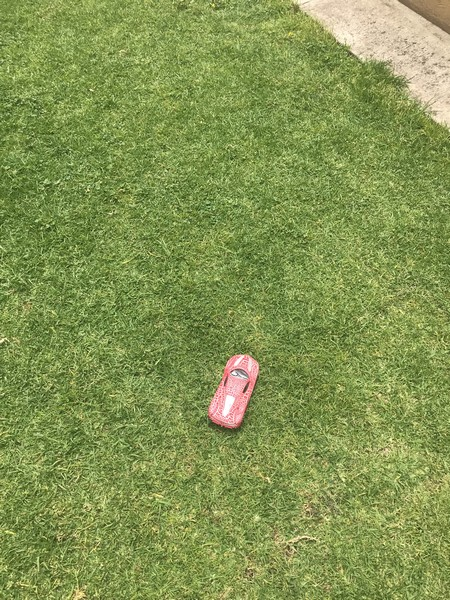RC: (206, 351, 262, 430)
